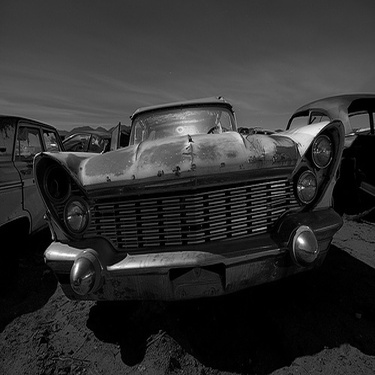car: (9, 102, 354, 308), (268, 90, 373, 217), (1, 135, 63, 244), (50, 124, 117, 168)
